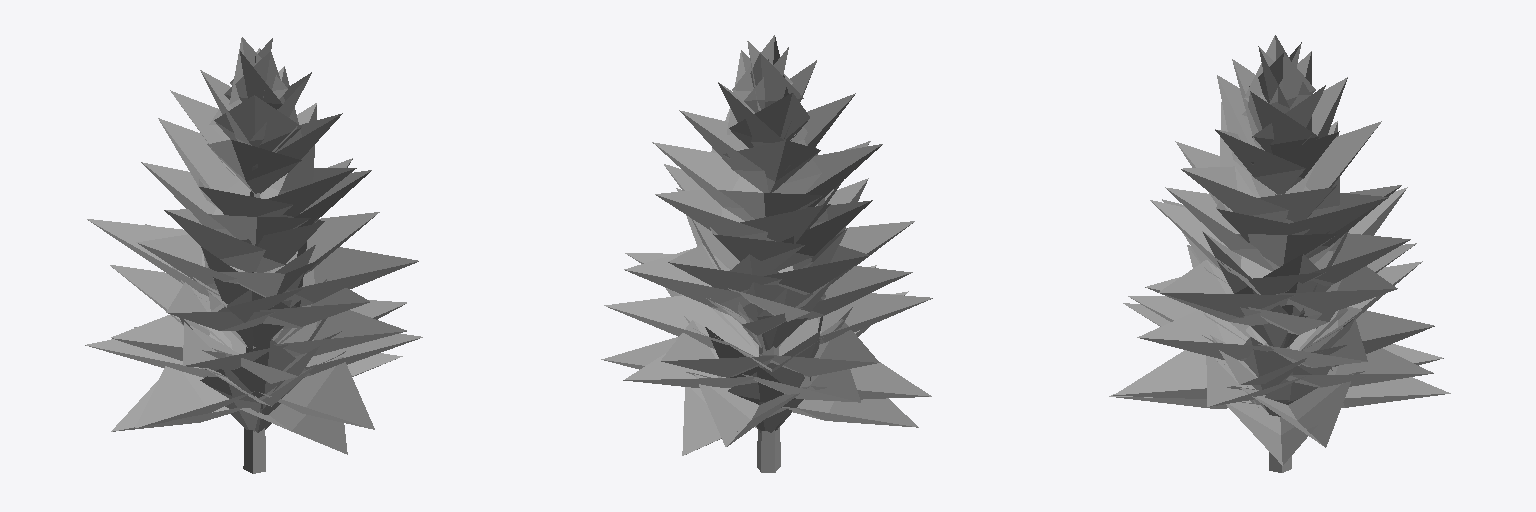
File: pino.obj
3 views of the same model, side by side, from view 1: azimuth 30°, elevation 25°; view 2: azimuth 150°, elevation 25°; view 3: azimuth 270°, elevation 25° (orthographic).
Visible parts, largest first — view 1: mesh1_mesh1.004; view 2: mesh1_mesh1.004; view 3: mesh1_mesh1.004.
Boxes of the visible parts, box(x1,y1,x2,y2) form: mesh1_mesh1.004: box(85, 37, 422, 473); mesh1_mesh1.004: box(601, 35, 932, 472); mesh1_mesh1.004: box(1109, 35, 1450, 472).
Size of the model in its own units: 2.18 by 2.98 by 2.18.